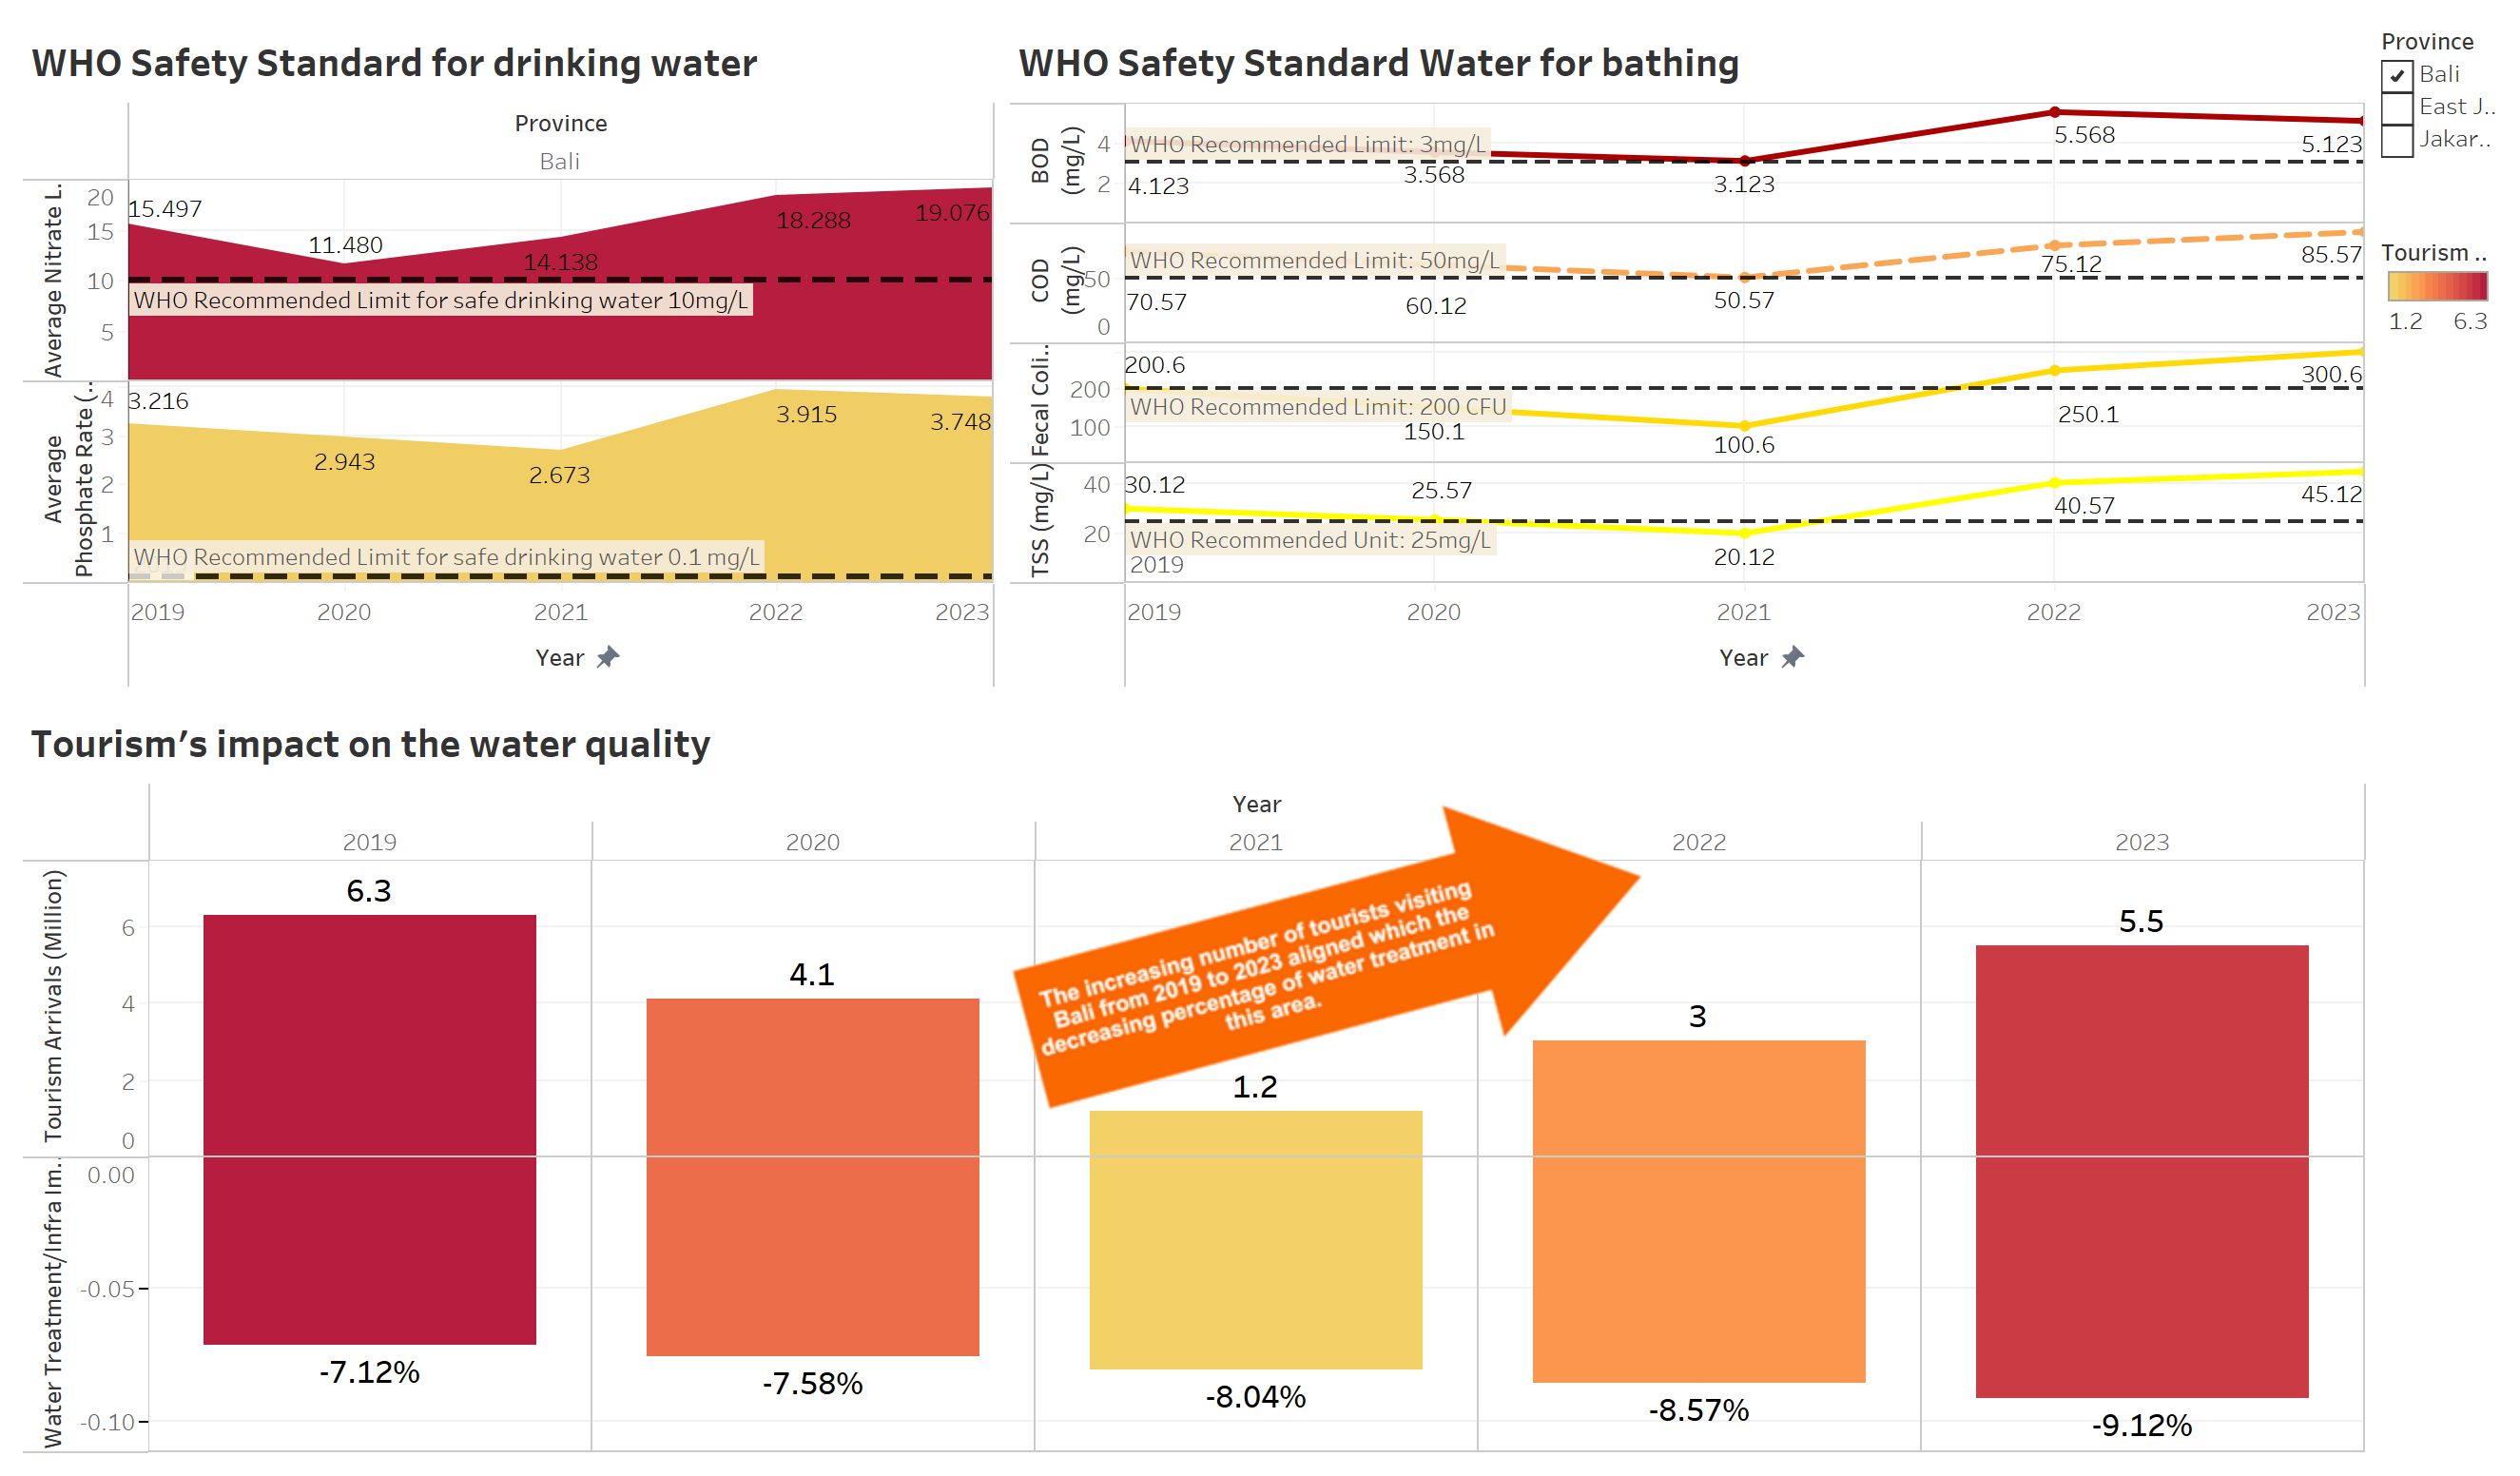

What the dashboard file says about the page in this screenshot:
{"tool":"tableau","page":{"name":"Dashboard 1","canvas":[1000,1000],"units":"permille","ordinal":0},"visuals":[{"type":"worksheet","title":"Bali polution","mark":"Area","rows":["Nitrate Level (mg/L)","Phosphate Rate (mg/L)","Salinity (TDS mg/L)","pH Level"],"cols":["Province","Year"],"box":[5.9,10.3,495.1,979.4]},{"type":"worksheet","title":"Bali polution (2)","mark":"Automatic","rows":["BOD (mg/L)","COD (mg/L)","Fecal Coliforms (MPN/100mL)","TSS (mg/L)"],"cols":["Year"],"box":[501,10.3,493.2,979.4]}]}

Visuals, with their boxes on the dashboard's canvas, which has no fixed pixel size, in thousandths of its width and height (x1, y1, x2, y2). These are canvas units, not pixel positions in the 2520x1476 screenshot, which may show the page scaled, cropped or inside an application window:
"Bali polution" worksheet (Area marks): x1=6, y1=10, x2=501, y2=990
"Bali polution (2)" worksheet: x1=501, y1=10, x2=994, y2=990
